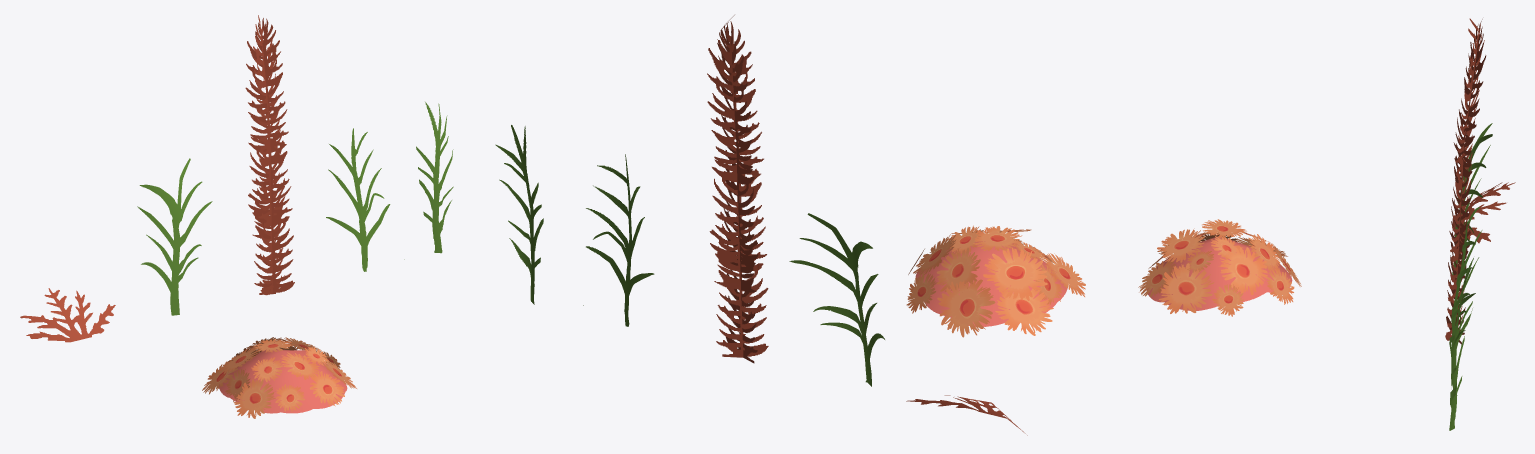
The model's file is seaweed 1.FBX.
The picture shows the model from 3 angles, left to right: view 1: azimuth 30°, elevation 25°; view 2: azimuth 150°, elevation 25°; view 3: azimuth 270°, elevation 25°; orthographic projection. The views are drawn at different scales.
Parts seen in each view (by area): view 1: seaweed_6, seaweed_5, seaweed_1, seaweed_4, seaweed_3, seaweed_2; view 2: seaweed_6, seaweed_5, seaweed_1, seaweed_3, seaweed_2, seaweed_4; view 3: seaweed_6, seaweed_5, seaweed_2, seaweed_3, seaweed_4, seaweed_1.
Part boxes in pixels (left/top/right/bottom): seaweed_6: left=202, top=337, right=356, bottom=418; seaweed_5: left=245, top=15, right=294, bottom=295; seaweed_1: left=137, top=158, right=212, bottom=315; seaweed_4: left=20, top=288, right=115, bottom=342; seaweed_3: left=326, top=128, right=404, bottom=271; seaweed_2: left=416, top=102, right=453, bottom=253; seaweed_6: left=906, top=225, right=1085, bottom=337; seaweed_5: left=707, top=15, right=768, bottom=363; seaweed_1: left=789, top=213, right=884, bottom=386; seaweed_3: left=583, top=154, right=654, bottom=326; seaweed_2: left=495, top=125, right=543, bottom=304; seaweed_4: left=906, top=395, right=1027, bottom=435; seaweed_6: left=1138, top=219, right=1301, bottom=316; seaweed_5: left=1445, top=18, right=1486, bottom=344; seaweed_2: left=1449, top=258, right=1475, bottom=430; seaweed_3: left=1449, top=221, right=1482, bottom=386; seaweed_4: left=1452, top=182, right=1515, bottom=243; seaweed_1: left=1452, top=123, right=1492, bottom=274.
Size of the model in its own units: 113 by 73.23 by 77.4.
